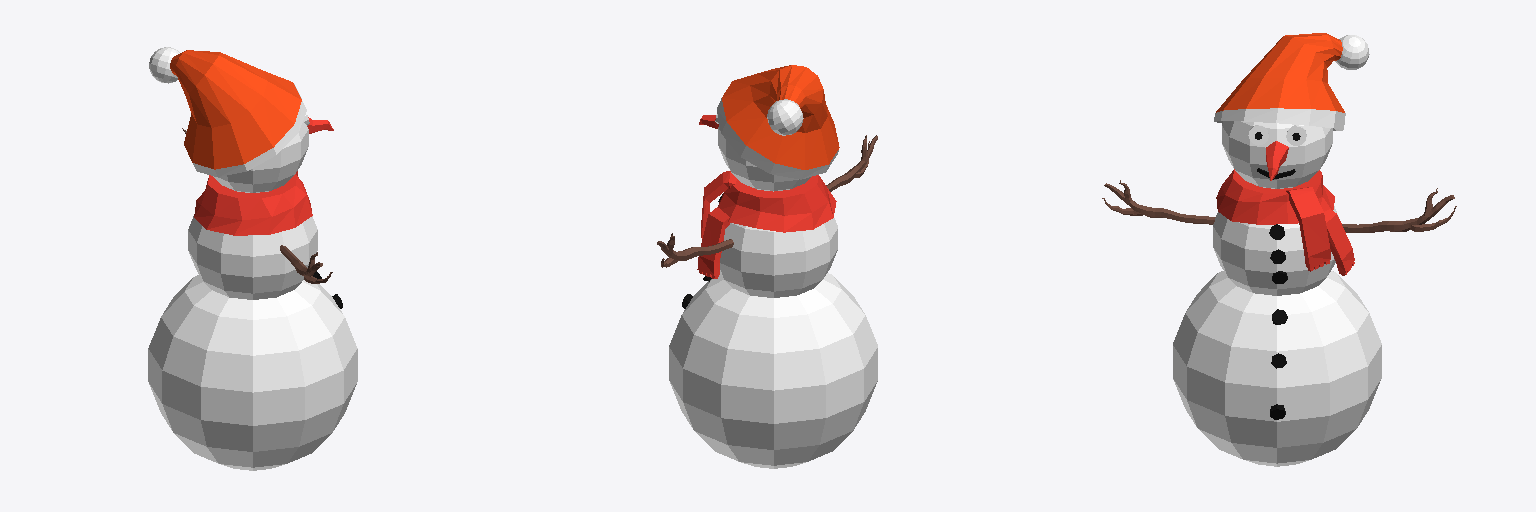
Rendered from schneemannganz.obj.
3 views of the same model, side by side, from view 1: azimuth 30°, elevation 25°; view 2: azimuth 150°, elevation 25°; view 3: azimuth 270°, elevation 25° (orthographic).
Parts seen in each view (by area): view 1: mesh[number redacted], mesh[number redacted], mesh[number redacted], mesh[number redacted], mesh[number redacted], mesh[number redacted]; view 2: mesh[number redacted], mesh[number redacted], mesh[number redacted], mesh[number redacted], mesh[number redacted], mesh[number redacted], mesh[number redacted], mesh[number redacted], mesh[number redacted]; view 3: mesh[number redacted], mesh[number redacted], mesh[number redacted], mesh[number redacted], mesh[number redacted], mesh[number redacted], mesh[number redacted], mesh[number redacted], mesh[number redacted], mesh[number redacted].
Part boxes in pixels (x1,y1,x2,y2): mesh[number redacted]: (148,275,357,470); mesh[number redacted]: (149,47,306,176); mesh[number redacted]: (188,216,317,299); mesh[number redacted]: (194,174,312,235); mesh[number redacted]: (213,121,308,192); mesh[number redacted]: (280,245,332,283); mesh[number redacted]: (669,273,877,468); mesh[number redacted]: (717,65,839,179); mesh[number redacted]: (720,218,837,297); mesh[number redacted]: (718,175,836,232); mesh[number redacted]: (718,125,810,191); mesh[number redacted]: (697,207,729,278); mesh[number redacted]: (657,233,733,267); mesh[number redacted]: (701,171,736,238); mesh[number redacted]: (826,135,877,191); mesh[number redacted]: (1173,271,1381,466); mesh[number redacted]: (1214,33,1369,130); mesh[number redacted]: (1213,206,1338,295); mesh[number redacted]: (1222,121,1332,188); mesh[number redacted]: (1216,169,1334,224); mesh[number redacted]: (1286,187,1330,271); mesh[number redacted]: (1342,188,1456,232); mesh[number redacted]: (1102,180,1215,224); mesh[number redacted]: (1324,209,1354,275); mesh[number redacted]: (1266,141,1288,180).
Size of the model in its own units: 2.33 by 4.77 by 3.79.